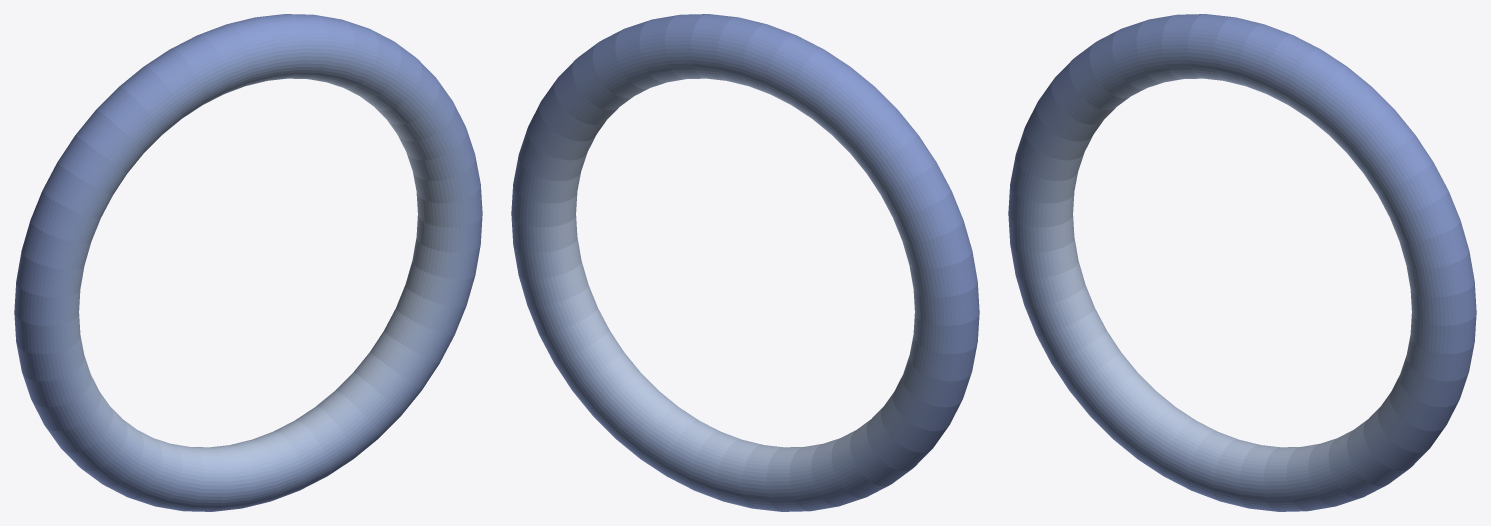
3 renders of one model, left to right at view 1: azimuth 30°, elevation 25°; view 2: azimuth 150°, elevation 25°; view 3: azimuth 330°, elevation 25°, orthographic.
Visible parts, largest first — view 1: world; view 2: world; view 3: world.
Boxes of the visible parts, x1,y1,x2,y2 form: world: (14,14,482,511); world: (511,14,979,511); world: (1008,14,1476,511).
Bounding box in the file's own units: 27.33 × 27.28 × 3.33.
